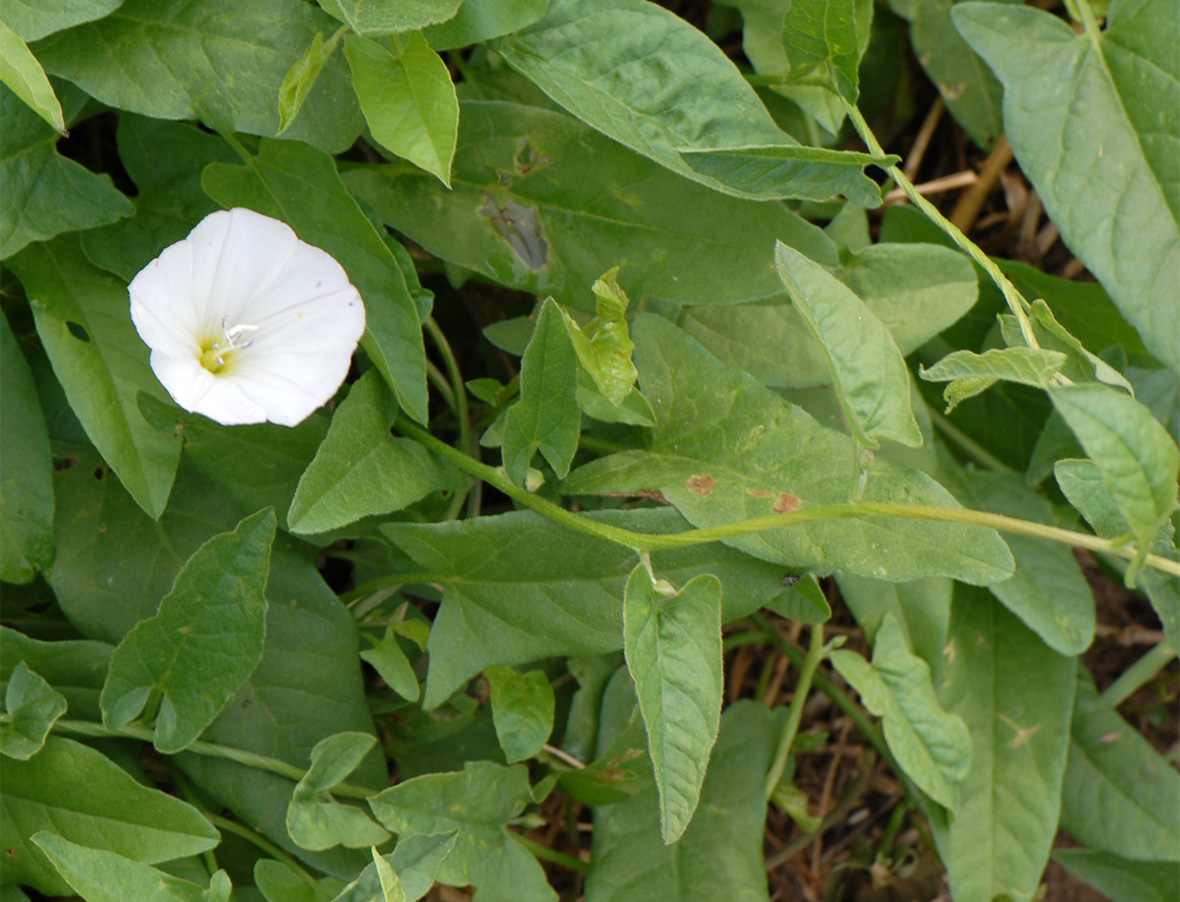bindweed: (123, 203, 371, 438)
